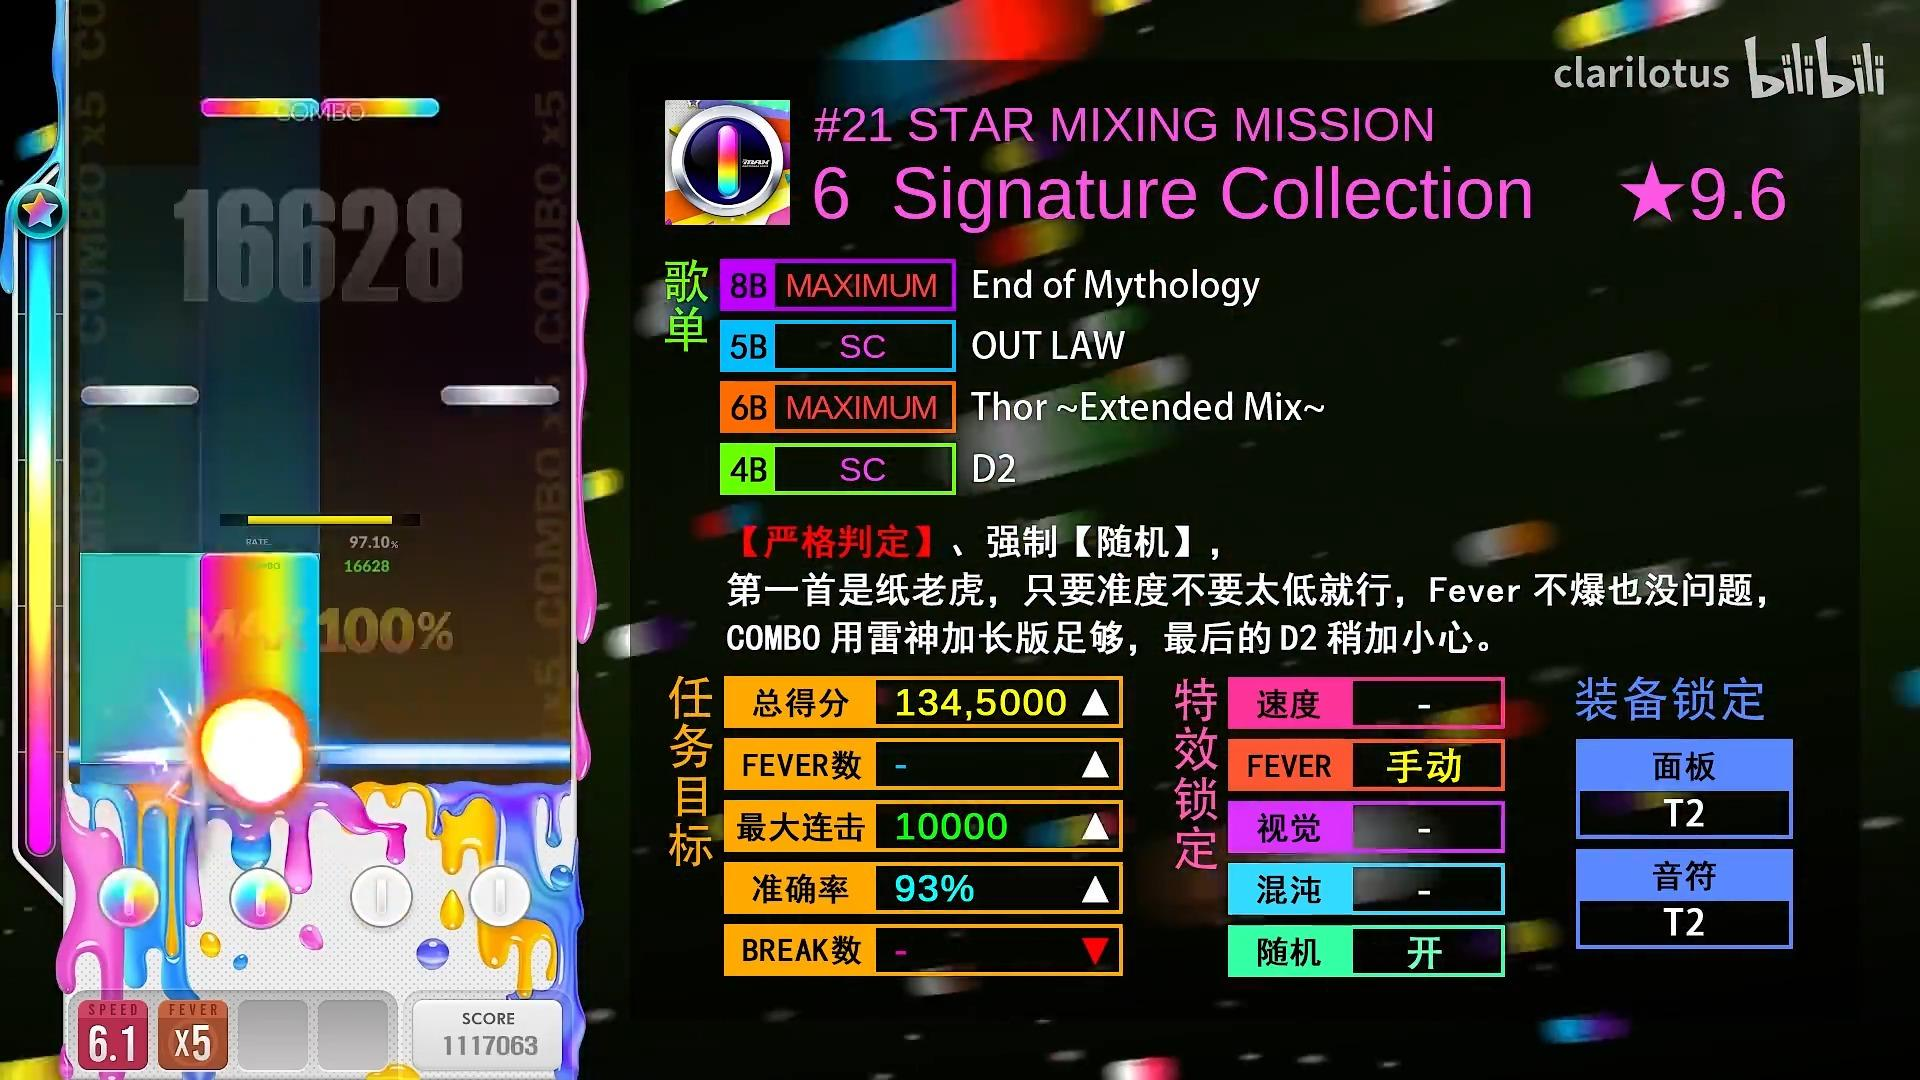hold-end: (200, 551, 319, 573)
note: (80, 385, 200, 406), (200, 98, 320, 118), (321, 98, 439, 118), (442, 386, 558, 406)
side-end: (80, 551, 321, 571)
